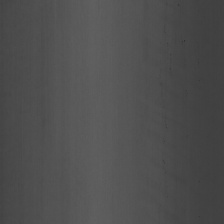inclusion: (161, 105, 168, 170), (168, 48, 173, 79), (180, 35, 188, 45)
